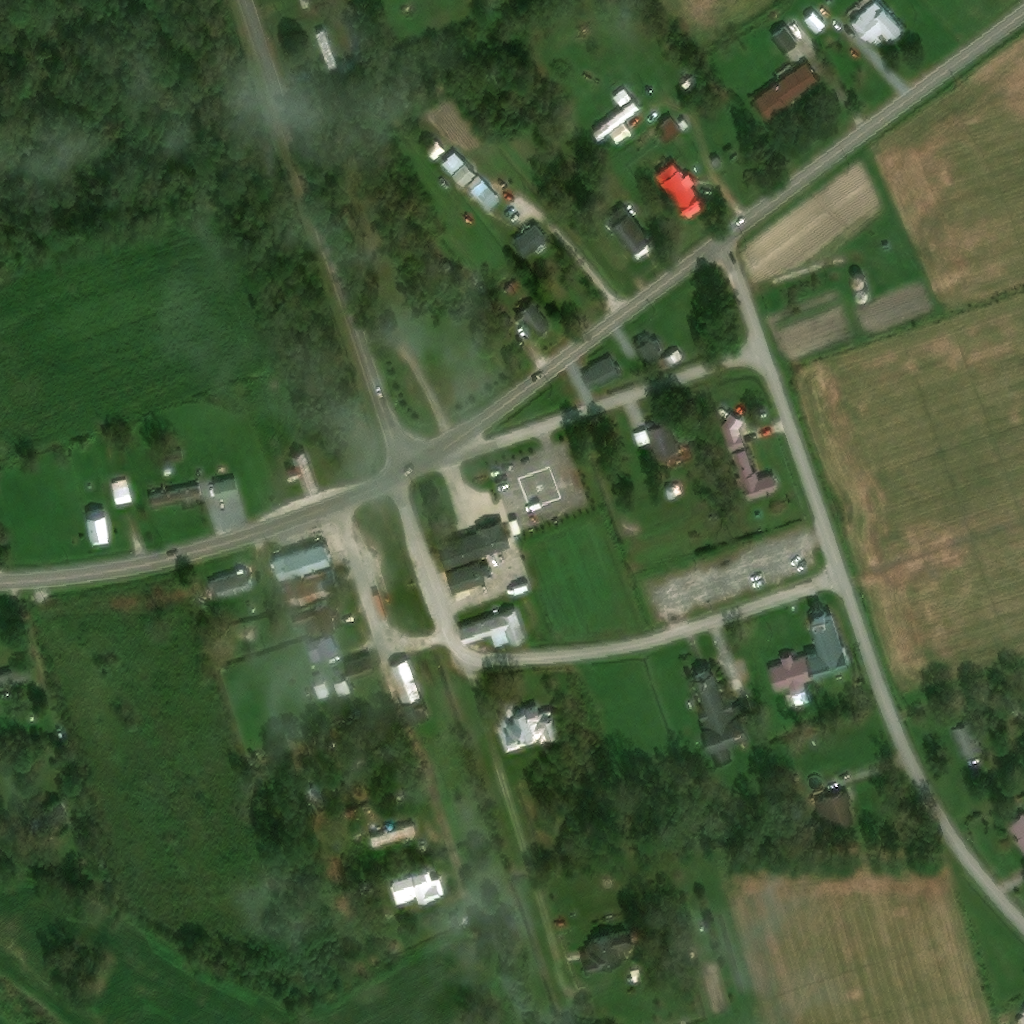no_damage: (690, 665, 746, 767), (720, 412, 781, 500), (751, 59, 822, 120), (645, 158, 707, 224), (434, 518, 511, 567), (802, 605, 853, 678), (494, 696, 559, 751), (386, 658, 430, 725), (455, 608, 528, 648), (846, 0, 905, 48), (269, 539, 332, 579), (603, 203, 648, 257), (576, 931, 630, 976), (388, 866, 448, 906), (278, 567, 339, 606), (766, 650, 814, 695), (288, 594, 341, 634), (590, 100, 640, 142), (510, 300, 557, 340), (811, 789, 853, 831), (207, 563, 256, 599), (283, 449, 318, 495), (444, 558, 491, 592), (23, 800, 69, 833), (148, 483, 205, 509), (580, 354, 622, 389), (468, 173, 505, 212), (644, 422, 679, 463), (512, 221, 550, 258), (366, 821, 417, 846), (950, 721, 982, 759), (314, 29, 341, 71), (305, 632, 341, 663), (343, 650, 377, 681), (85, 507, 112, 546), (633, 333, 664, 365), (1002, 810, 1024, 854), (769, 25, 801, 55), (657, 115, 683, 146), (449, 160, 477, 186), (802, 9, 827, 35), (311, 674, 333, 702), (212, 477, 241, 498), (113, 479, 134, 505), (678, 70, 702, 92), (660, 346, 684, 368), (608, 123, 633, 143), (657, 482, 682, 502), (333, 669, 351, 696), (441, 152, 462, 173), (627, 965, 649, 985), (611, 87, 632, 107), (789, 690, 810, 709), (496, 313, 515, 333), (632, 428, 650, 449), (505, 279, 523, 298), (162, 450, 186, 463), (1005, 707, 1022, 724), (506, 516, 521, 534), (706, 157, 722, 171), (848, 273, 862, 287), (851, 287, 865, 300), (449, 913, 462, 927), (300, 0, 316, 10), (677, 118, 689, 131), (865, 228, 877, 240), (164, 468, 175, 475), (1019, 1007, 1024, 1016)
